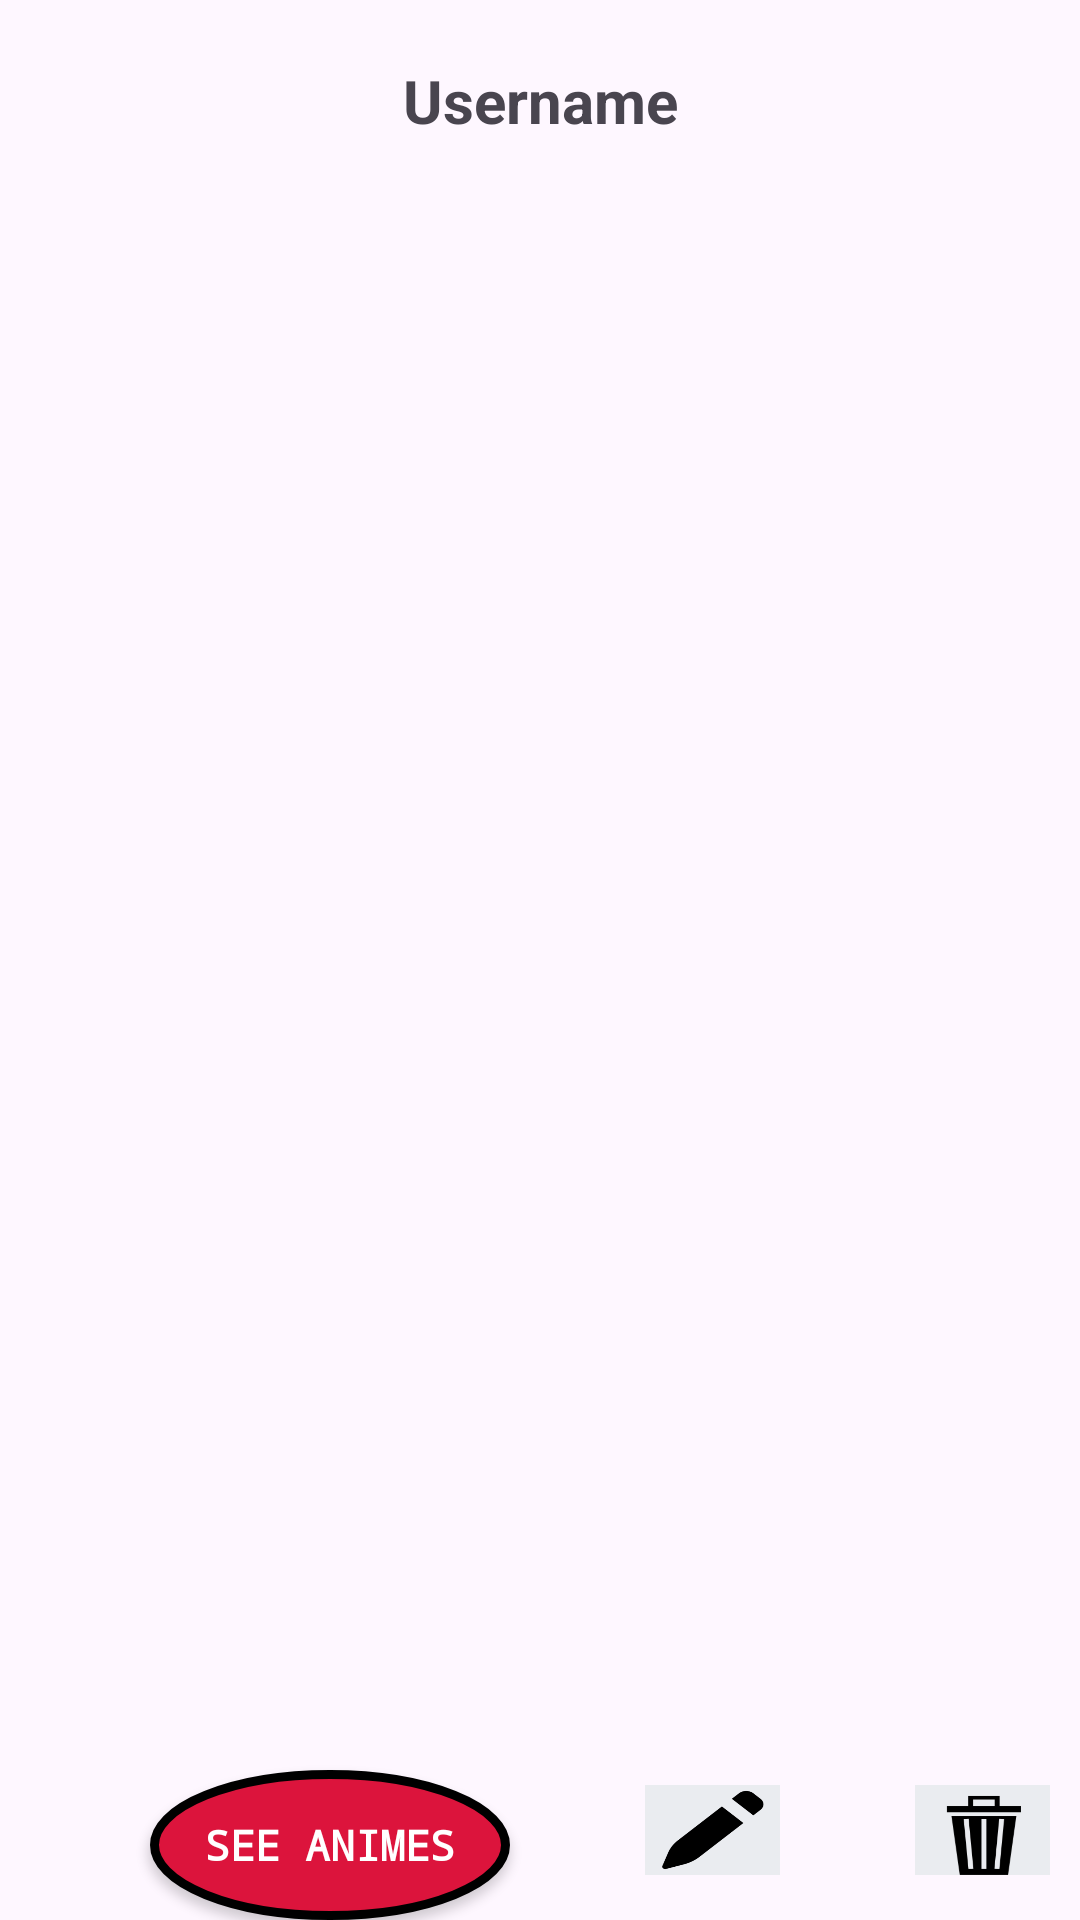

Named icons in this screenshot (1080×1920) and their bounding boxes, Rect(x1, y1, x2, y2):
pencil: Rect(645, 1785, 780, 1875)
trash can: Rect(946, 1795, 1021, 1875)
